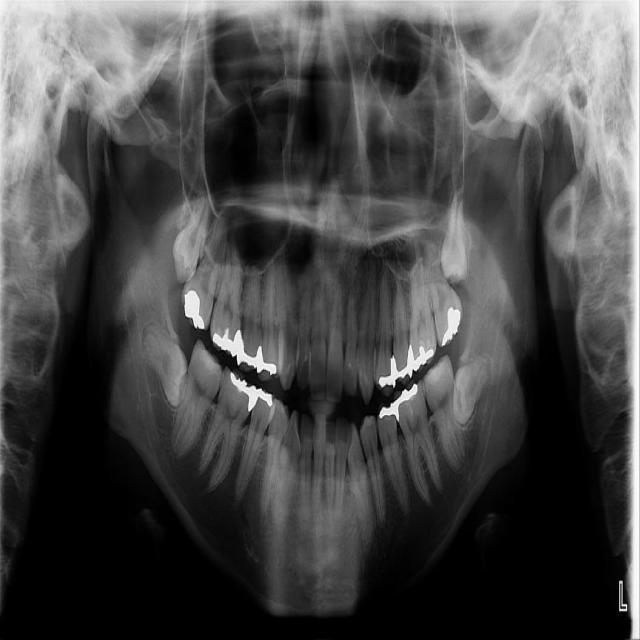3M ESPE Implant: (164, 190, 214, 287)
52: (177, 335, 232, 404), (211, 365, 263, 425), (414, 355, 464, 412), (391, 379, 430, 436), (179, 270, 214, 332), (432, 288, 466, 348), (209, 300, 241, 358), (233, 318, 266, 373), (256, 325, 286, 383), (409, 316, 437, 372), (245, 387, 280, 429), (372, 345, 395, 397), (392, 339, 414, 385), (375, 402, 398, 444)
73: (596, 526, 598, 538)
BioHorizons Implant: (418, 229, 469, 348)
BioLife Implant: (438, 185, 468, 287)
Biomet 3i Implant: (436, 344, 499, 427)
Blue Sky Bio Implant: (417, 353, 472, 475)
Caries: (174, 212, 233, 333)
Implant: (164, 338, 232, 462)
Keystone Dental Implant: (129, 315, 206, 410)
